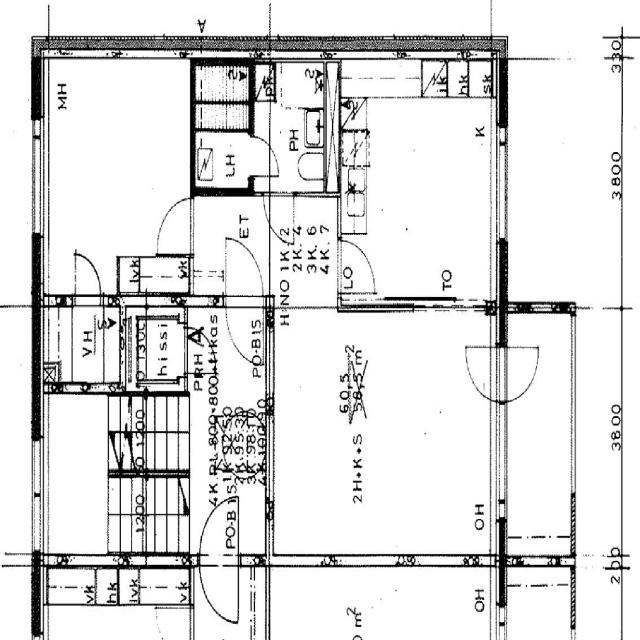door: (455, 347, 507, 402), (491, 347, 543, 402), (225, 295, 263, 364), (225, 238, 263, 306), (153, 198, 194, 254), (338, 240, 376, 294), (263, 191, 294, 243), (75, 256, 101, 306), (249, 137, 279, 176)
